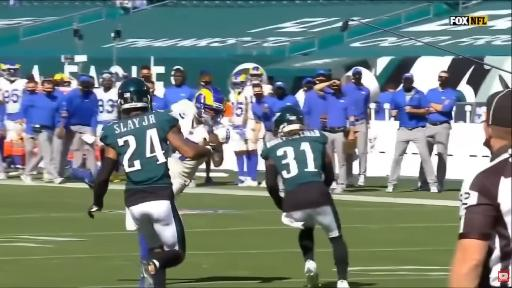Helmet: (118, 78, 151, 110), (195, 87, 224, 123), (274, 106, 303, 134), (0, 63, 20, 80), (231, 73, 247, 90), (249, 66, 263, 83), (100, 71, 115, 86)
Jersey: (101, 111, 178, 190), (262, 131, 327, 191), (170, 152, 206, 180), (0, 78, 26, 116), (171, 100, 196, 135), (94, 88, 117, 121), (262, 84, 272, 95)
Player: (89, 78, 218, 286), (262, 106, 348, 287), (231, 66, 271, 173), (171, 87, 230, 145), (0, 63, 26, 141), (230, 73, 247, 184), (94, 71, 118, 139), (94, 71, 117, 137), (230, 73, 247, 108)
